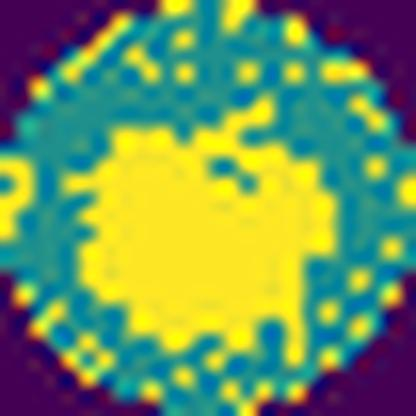Center: (80, 124, 337, 353)
